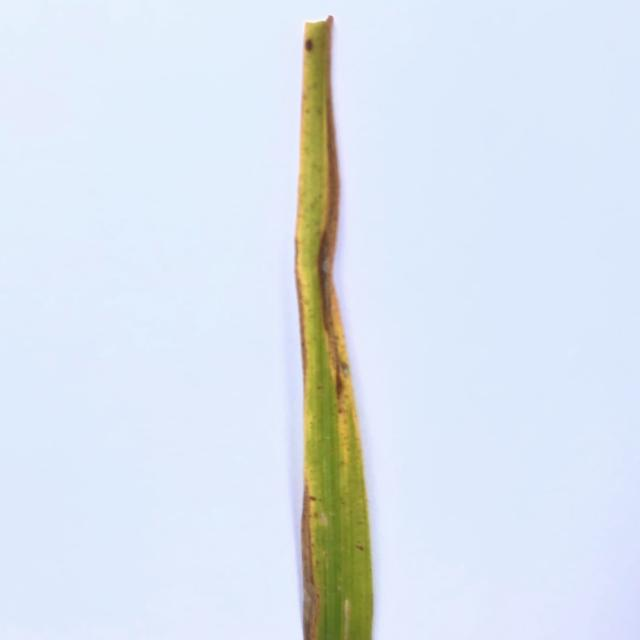tungro: (297, 24, 362, 543)
